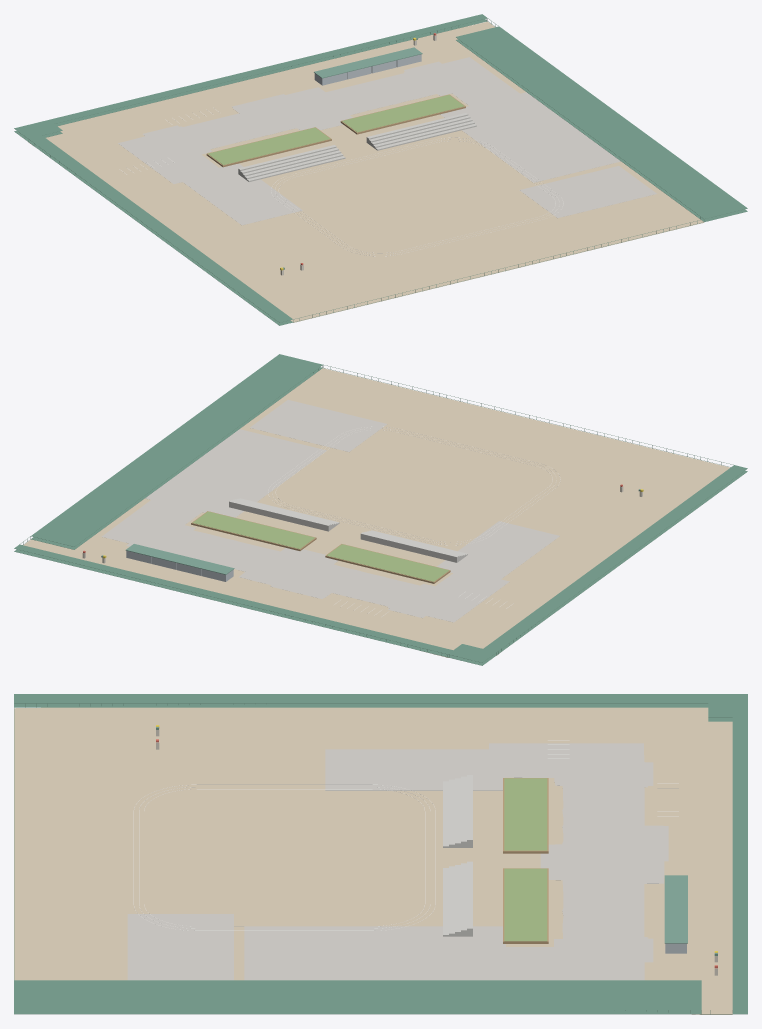
File: site.glb
The picture shows the model from 3 angles, top to bottom: view 1: azimuth 30°, elevation 25°; view 2: azimuth 150°, elevation 25°; view 3: azimuth 270°, elevation 25°; orthographic projection. The views are drawn at different scales.
Visible parts, largest first — view 1: site__dirt, site__paving, site__fence, site__grass, site__concrete, site__roofMetal, site__door, site__line, site__metalPanel; view 2: site__dirt, site__paving, site__fence, site__grass, site__concrete, site__roofMetal, site__door, site__line, site__metalPanel; view 3: site__dirt, site__paving, site__fence, site__grass, site__concrete, site__roofMetal, site__line, site__door.
Boxes of the visible parts, box(x1,y1,x2,y2) form: site__dirt: box(28, 21, 703, 322); site__paving: box(118, 57, 656, 225); site__fence: box(14, 14, 747, 325); site__grass: box(208, 95, 464, 164); site__concrete: box(238, 113, 476, 181); site__roofMetal: box(314, 47, 422, 78); site__door: box(206, 94, 465, 167); site__line: box(119, 107, 563, 256); site__metalPanel: box(314, 54, 421, 85); site__dirt: box(23, 368, 729, 657); site__paving: box(101, 400, 559, 622); site__fence: box(14, 354, 747, 665); site__grass: box(192, 511, 448, 581); site__concrete: box(229, 498, 467, 562); site__roofMetal: box(125, 544, 234, 574); site__door: box(191, 511, 450, 583); site__line: box(268, 426, 560, 616); site__metalPanel: box(126, 550, 233, 581); site__dirt: box(14, 707, 732, 1014); site__paving: box(127, 743, 668, 980); site__fence: box(14, 694, 747, 1014); site__grass: box(504, 778, 547, 941); site__concrete: box(443, 775, 472, 936); site__roofMetal: box(664, 875, 687, 943); site__line: box(133, 740, 678, 930); site__door: box(503, 778, 548, 943).
Size of what is drawn, in the model's own units: 171 by 2.86 by 167.
